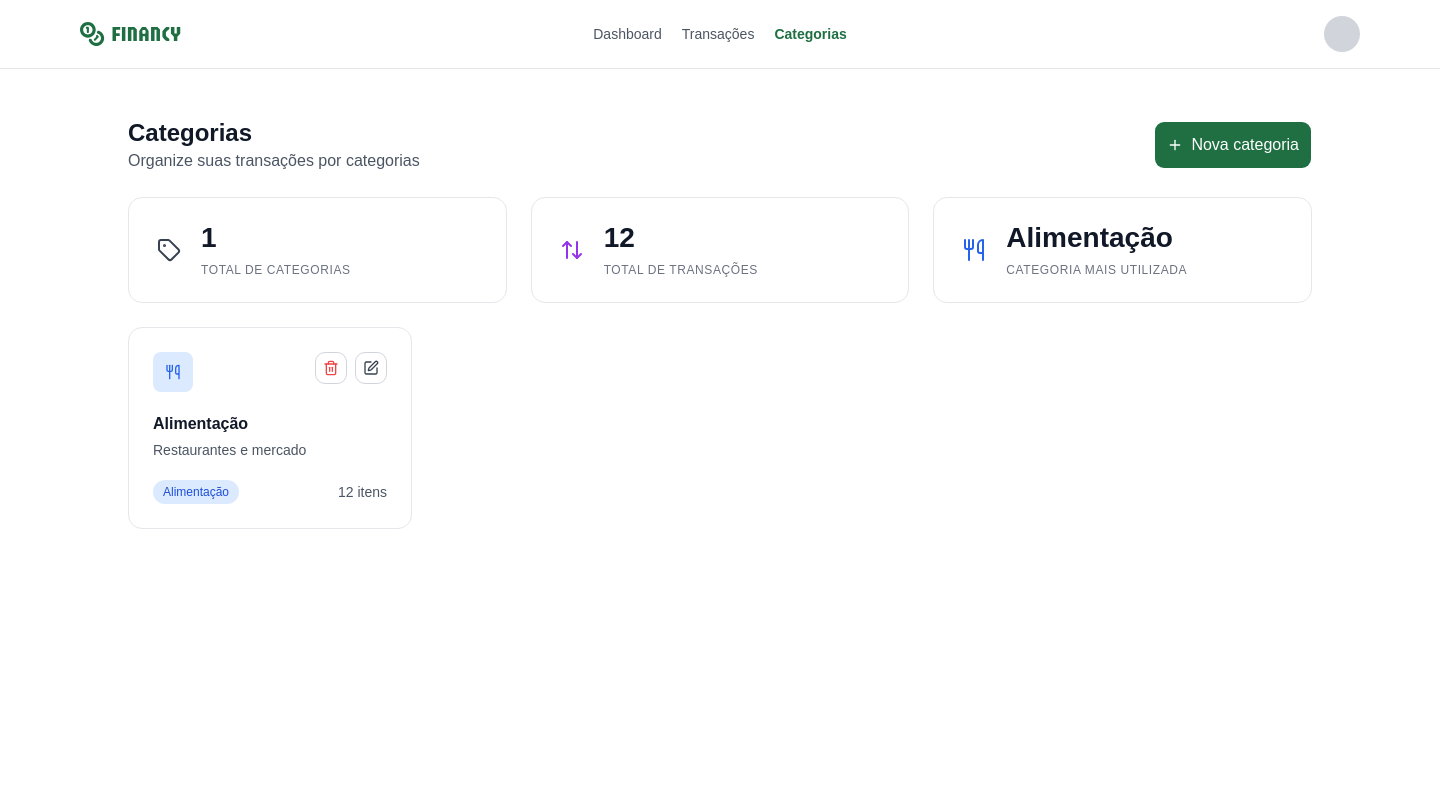
Test: CategoriesPage › opens DeleteCategoryAlert for the clicked card's category
Click the button named "excluir". click: [331, 368]
box: [315,352,347,384]
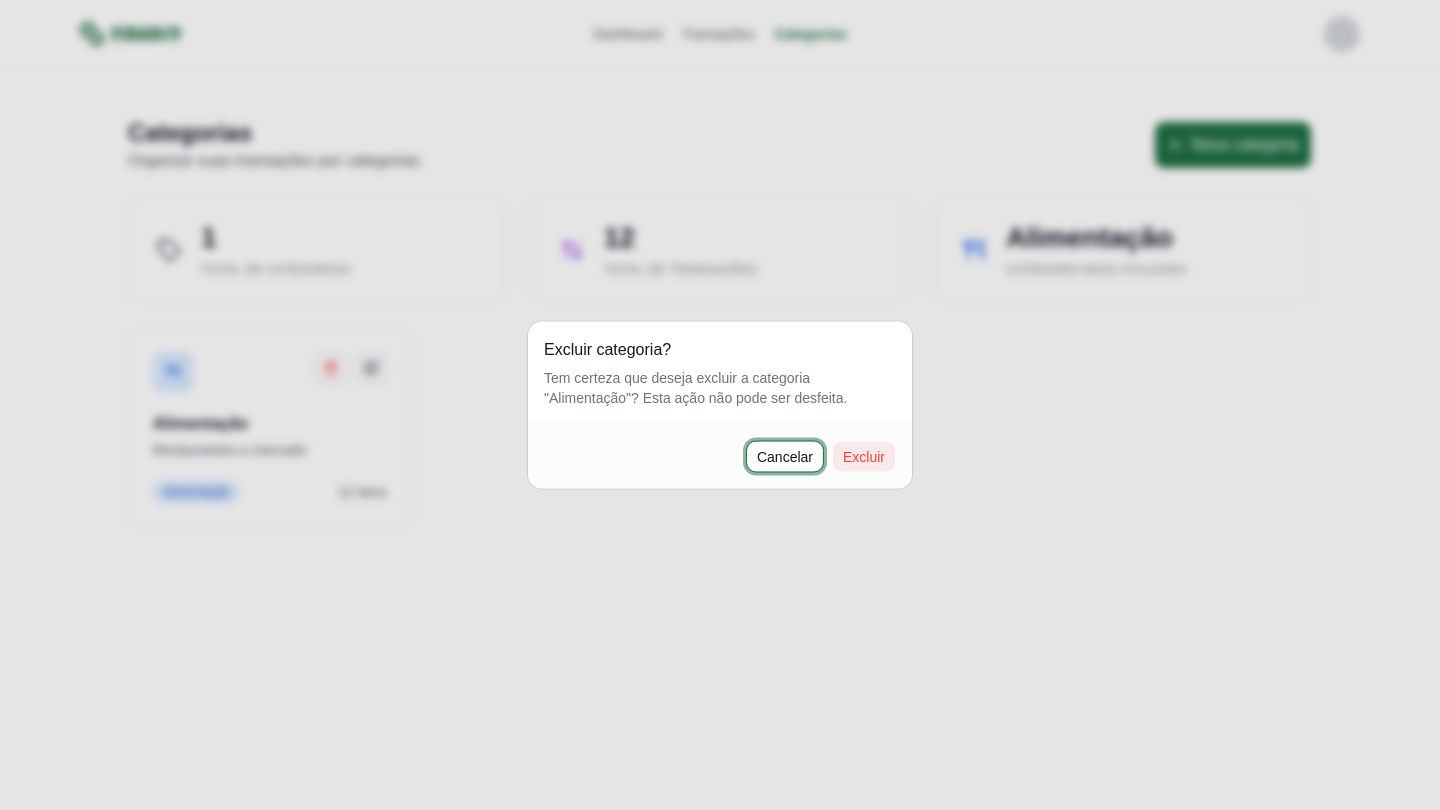
Result: the text "Alimentação" is shown at [549,390,626,406]
